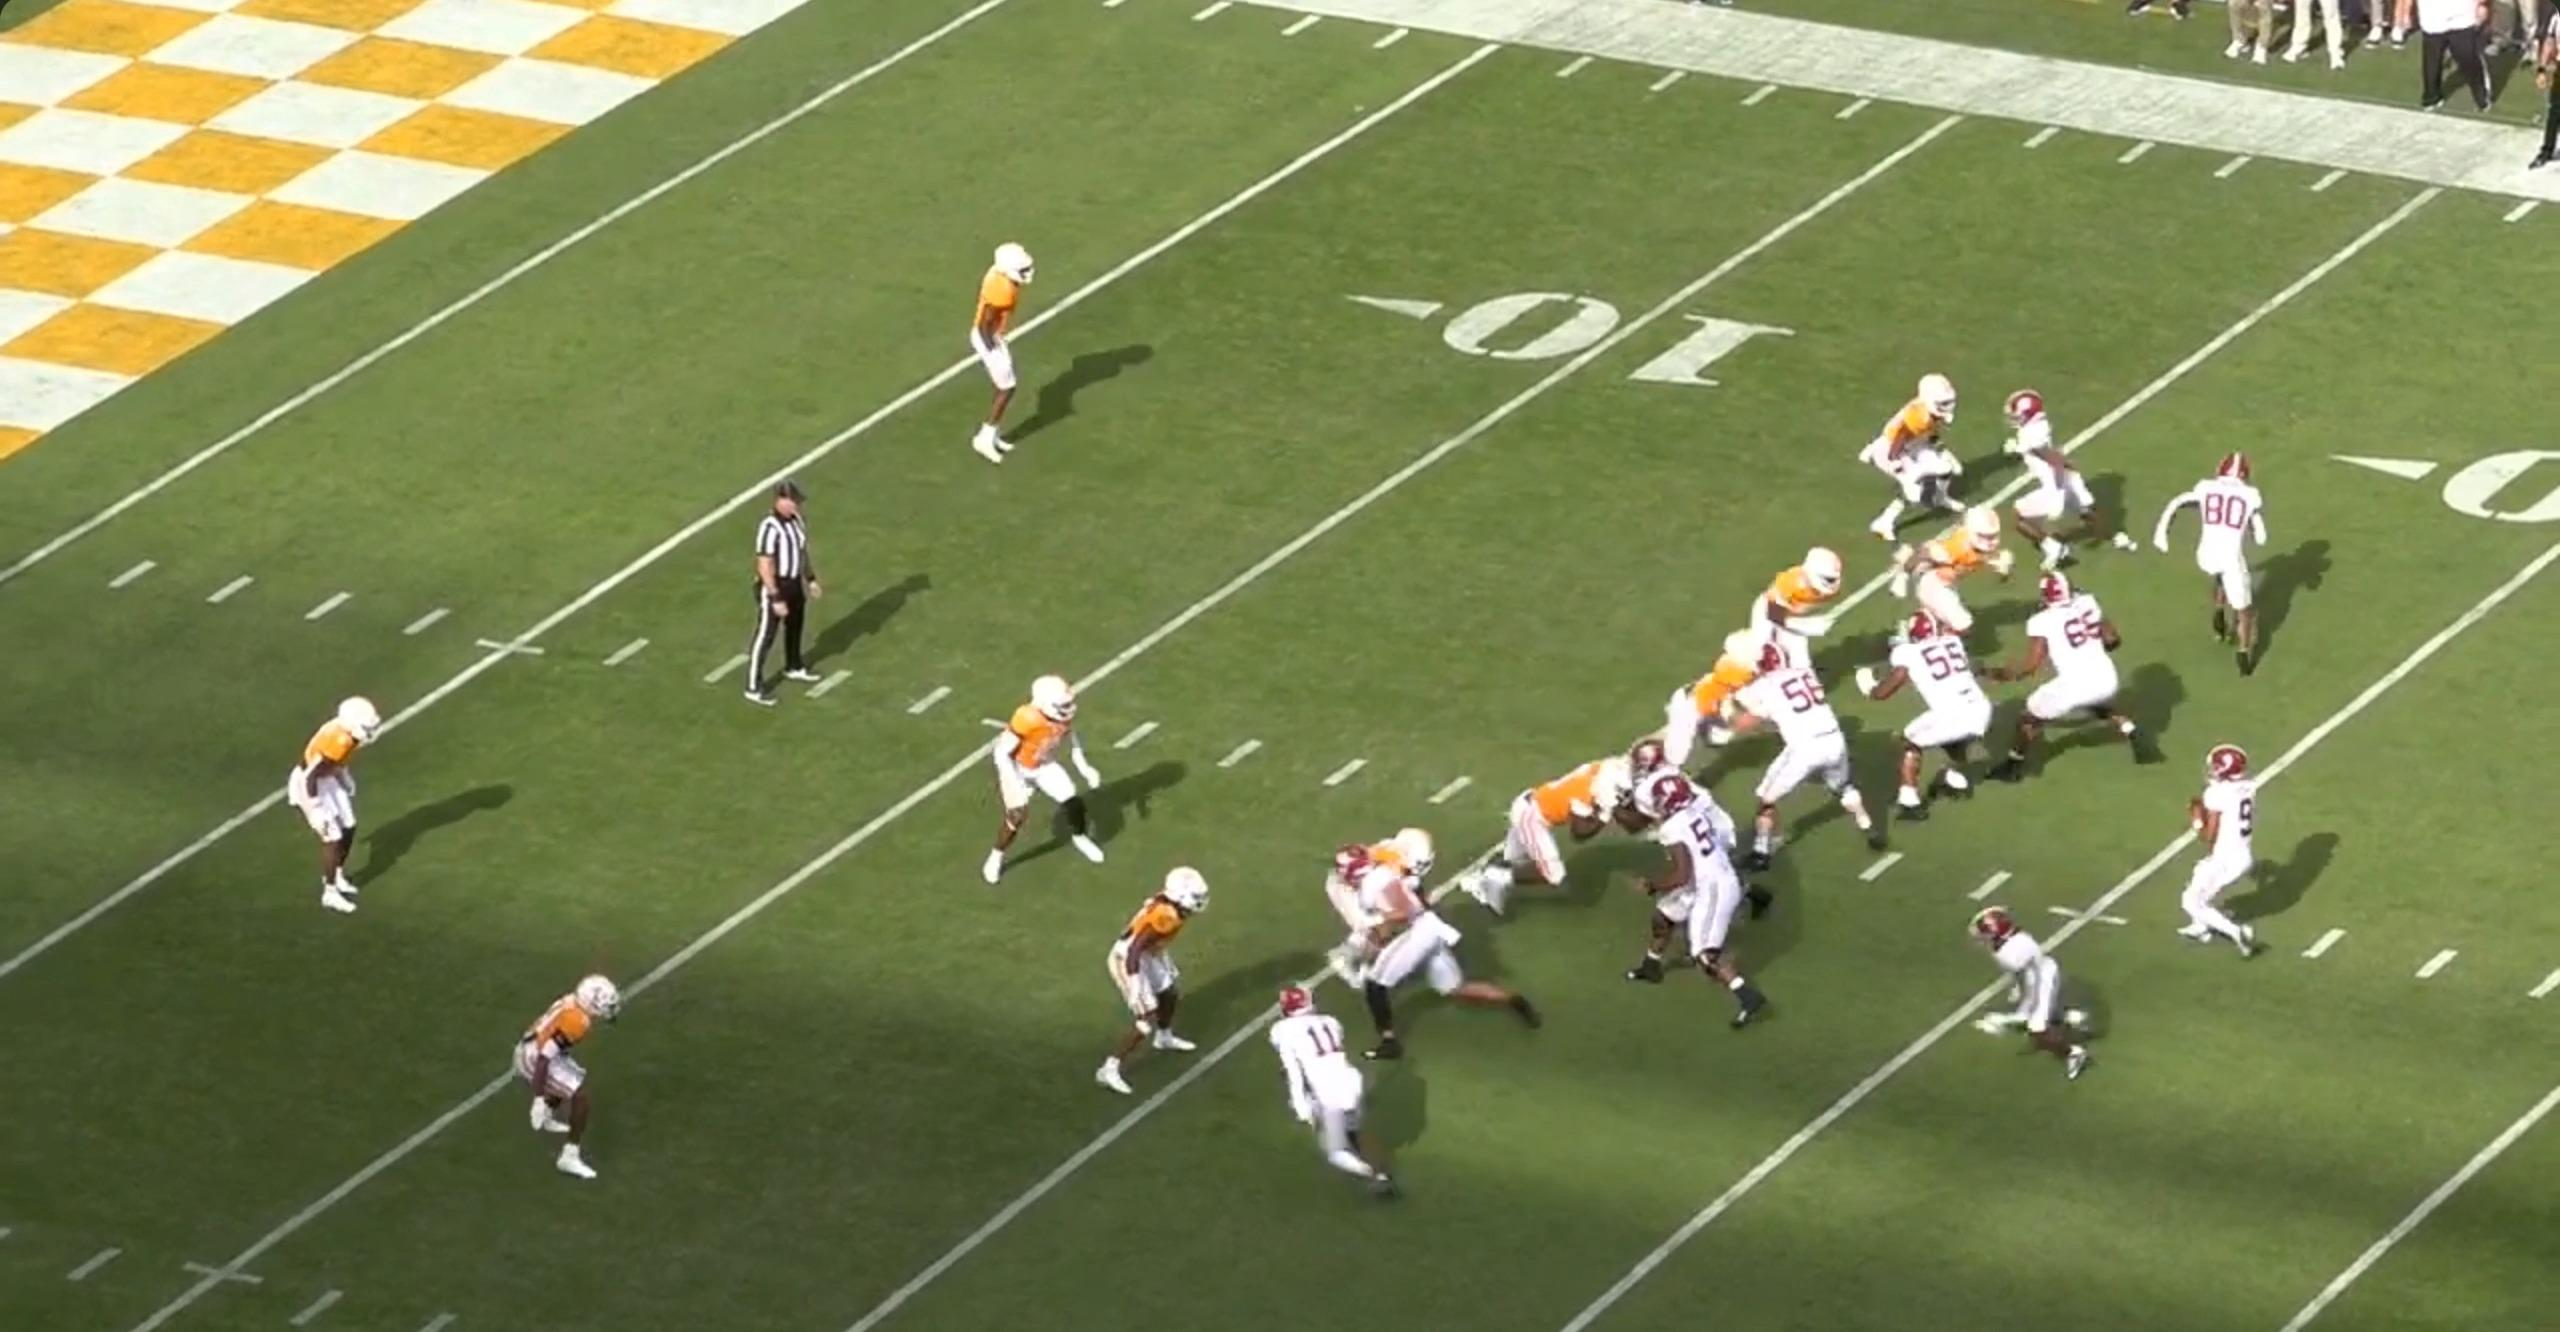player: (1333, 833, 1547, 1065), (1702, 645, 1898, 880), (1625, 766, 1780, 1035), (1995, 567, 2152, 785), (1258, 976, 1403, 1212), (973, 669, 1102, 897), (1090, 858, 1210, 1098), (1460, 755, 1628, 925), (1871, 607, 1998, 821), (1996, 388, 2138, 568), (1960, 909, 2091, 1087), (512, 968, 620, 1183), (293, 695, 397, 917), (952, 239, 1045, 478), (2171, 742, 2266, 965), (2180, 448, 2269, 678), (1867, 369, 1983, 545), (1650, 624, 1778, 777), (1893, 499, 2021, 648), (1727, 536, 1852, 686), (1327, 824, 1444, 984), (1616, 738, 1736, 856)
ref: (733, 490, 822, 721), (2524, 31, 2560, 180)
